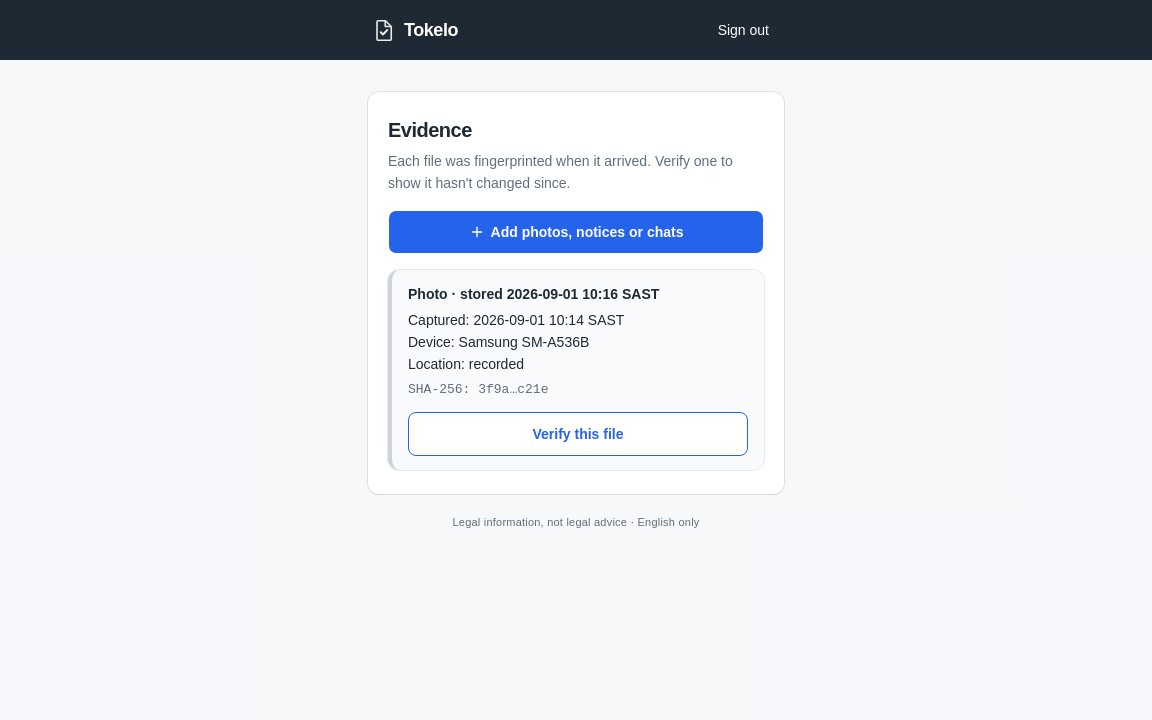
Scenario: [REQ-010] verifying a file › shows the API's own reason when a file can't be verified yet
Click the button "Verify this file".
click(578, 434)  # box [408,412,748,456]
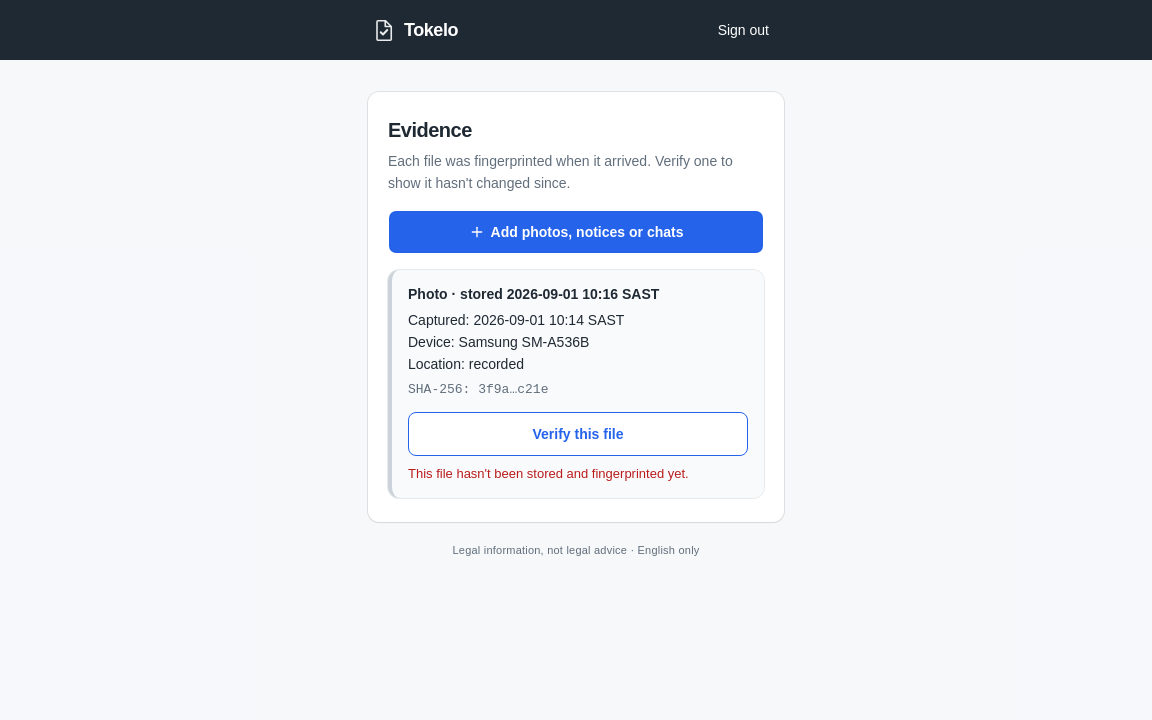
Now the text "This file hasn't been stored and fingerprinted yet." is shown, box [408,466,689,481]
